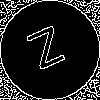Z: (25, 25, 72, 79)
